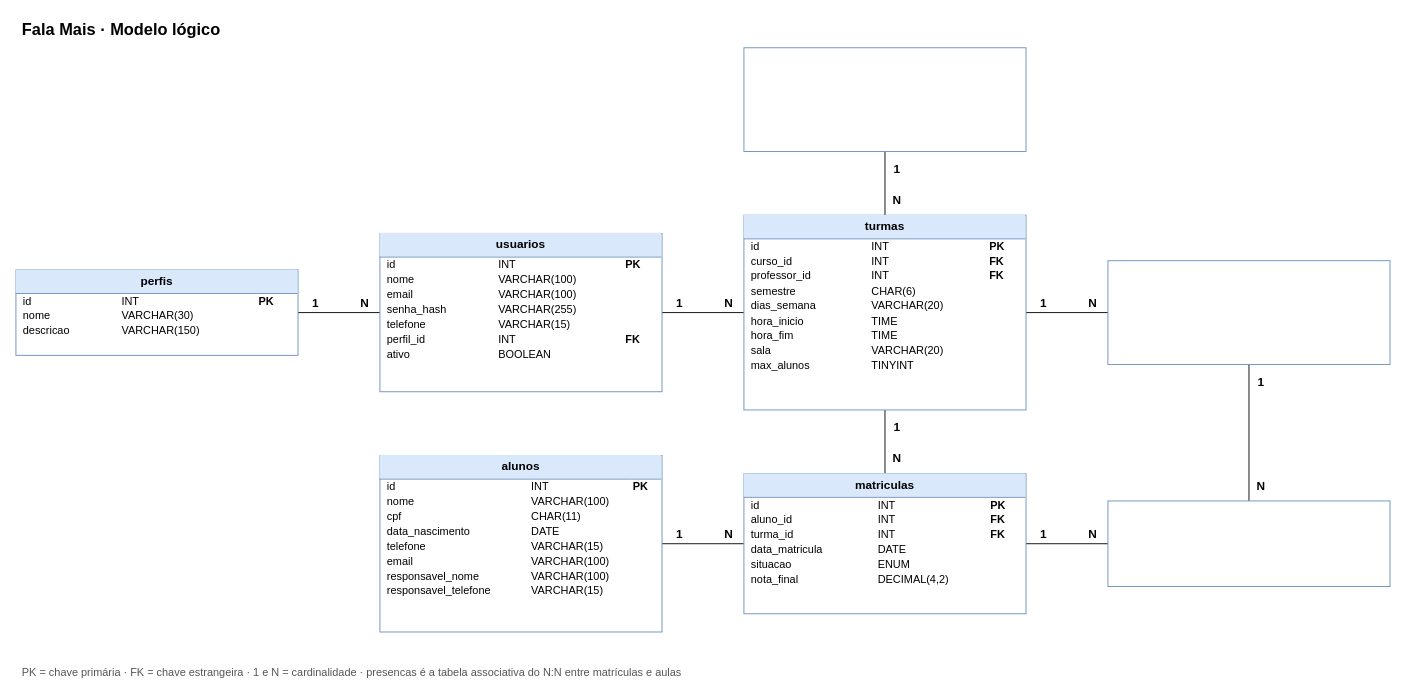
The diagram is 1406 pixels wide and 699 high, and some of its shapes have lost their labels. The shapes that lost their labels are listed below. From the top down, each one's box as (x1, y1, x2, y2) in pixels, then its label:
(743, 47, 1026, 152): cursos id INT PK idioma VARCHAR(30) nivel VARCHAR(30) carga_horaria SMALLINT
(1107, 260, 1390, 364): aulas id INT PK turma_id INT FK data_aula DATE conteudo VARCHAR(255)
(1107, 500, 1390, 586): presencas aula_id INT PK, FK matricula_id INT PK, FK presente BOOLEAN
